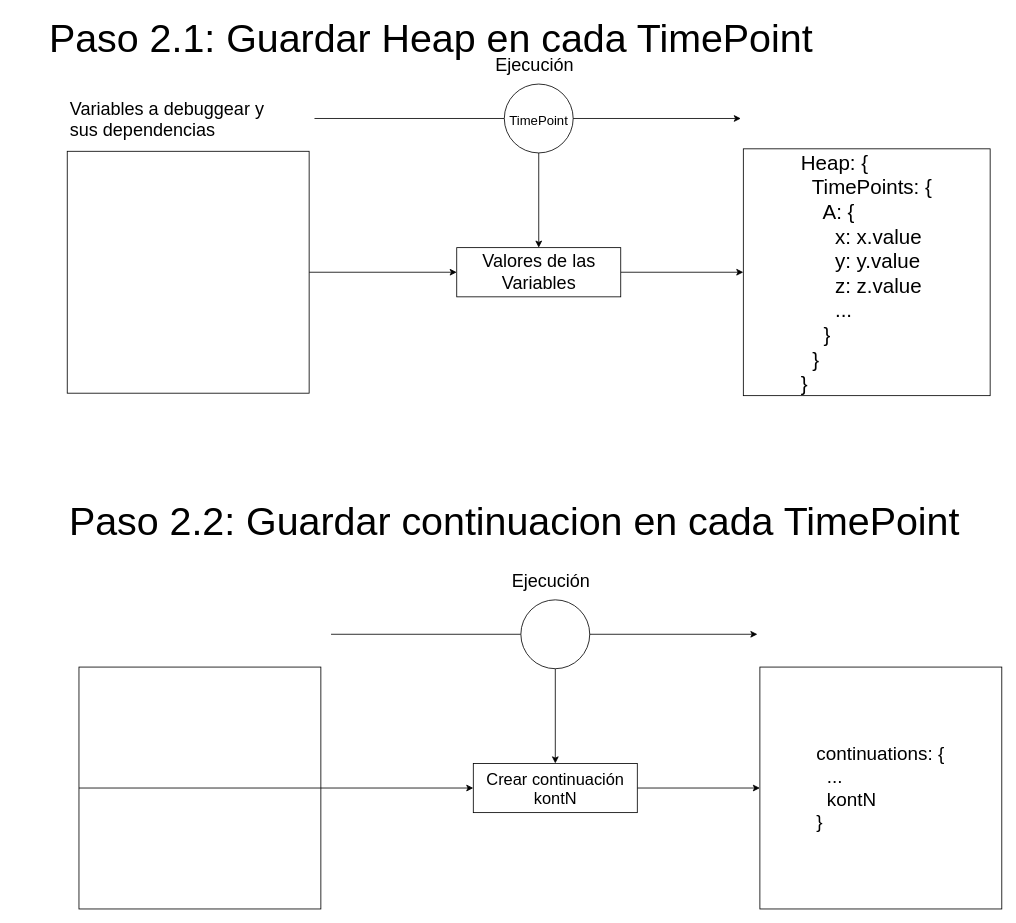
Some shapes in this 1016 by 923 pixel diagram are drawn without their labels. Each missing label, with the centre of its shape:
"Heap: { x, y, z, ... }" goes at (187,271).
"Stack Program Counter" goes at (199,787).
"TimePoint N" goes at (555,634).
